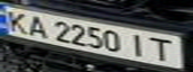0: (103, 28, 127, 54)
2: (48, 18, 72, 45), (66, 21, 87, 47)
5: (84, 25, 106, 51)
A: (21, 14, 51, 39)
I: (124, 30, 151, 59)
K: (0, 7, 33, 35)
T: (145, 35, 184, 63)
